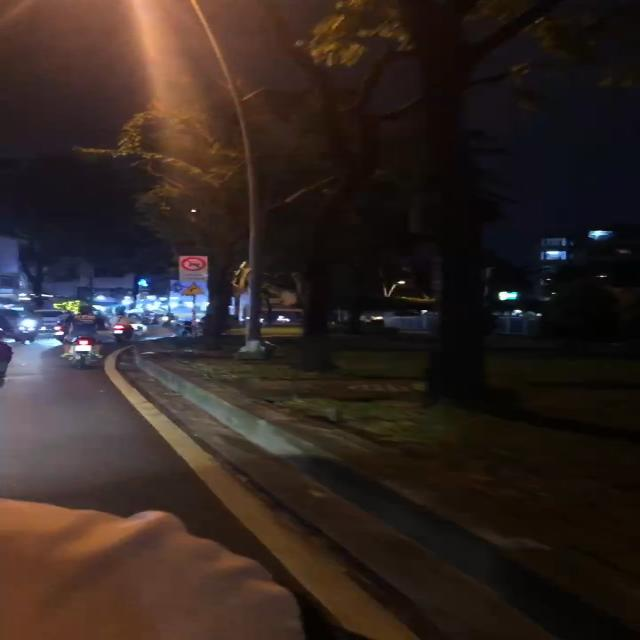Bien bao cam xe oto: (178, 255, 208, 271)
Bien bao cho ngoat nguy hiem: (179, 282, 208, 297)
